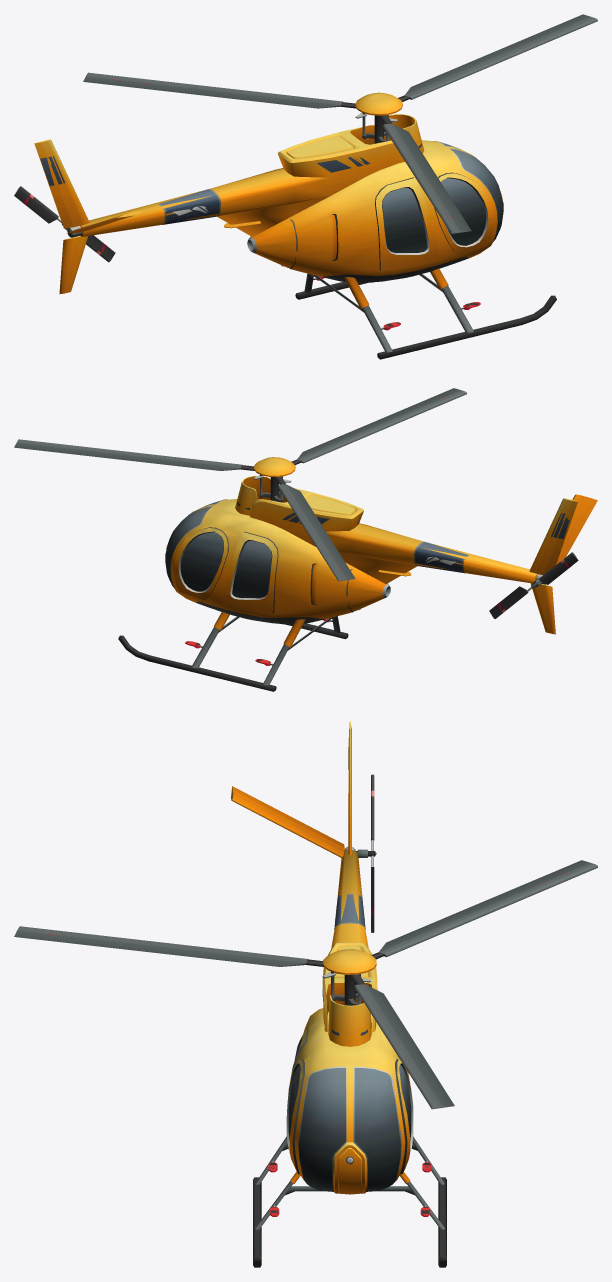
3 renders of one model, top to bottom at view 1: azimuth 30°, elevation 25°; view 2: azimuth 150°, elevation 25°; view 3: azimuth 270°, elevation 25°, orthographic. The views are drawn at different scales.
Parts seen in each view (by area): view 1: Fuselage_Helicopter_2A, Main_Rotor_2A; view 2: Fuselage_Helicopter_2A, Main_Rotor_2A; view 3: Fuselage_Helicopter_2A, Main_Rotor_2A.
Boxes of the visible parts, box(x1,y1,x2,y2) form: Fuselage_Helicopter_2A: box(14, 114, 556, 359); Main_Rotor_2A: box(83, 14, 597, 233); Fuselage_Helicopter_2A: box(118, 476, 597, 691); Main_Rotor_2A: box(14, 388, 466, 581); Fuselage_Helicopter_2A: box(231, 721, 446, 1267); Main_Rotor_2A: box(14, 860, 597, 1109).
Size of the model in its own units: 1922 by 781 by 1404.
